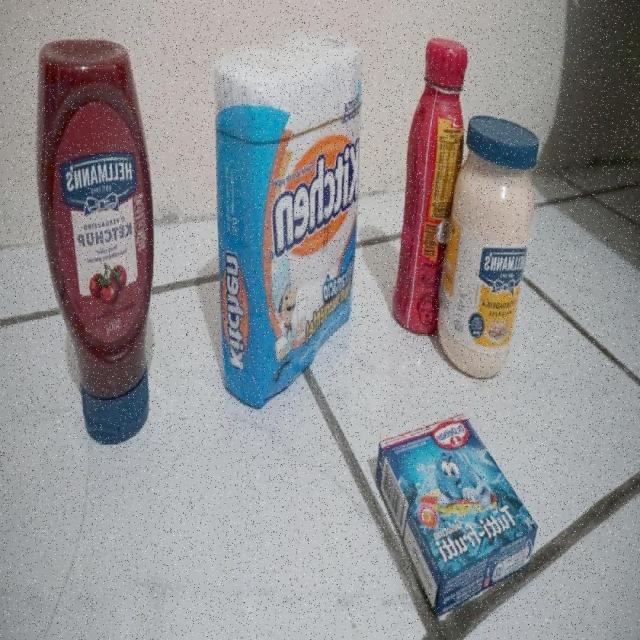ChocolateMilk: (392, 34, 468, 343)
Gelatine: (375, 416, 538, 617)
Ketchup: (34, 32, 156, 444)
Mayonnaise: (437, 114, 541, 378)
Napkin: (213, 27, 364, 407)
